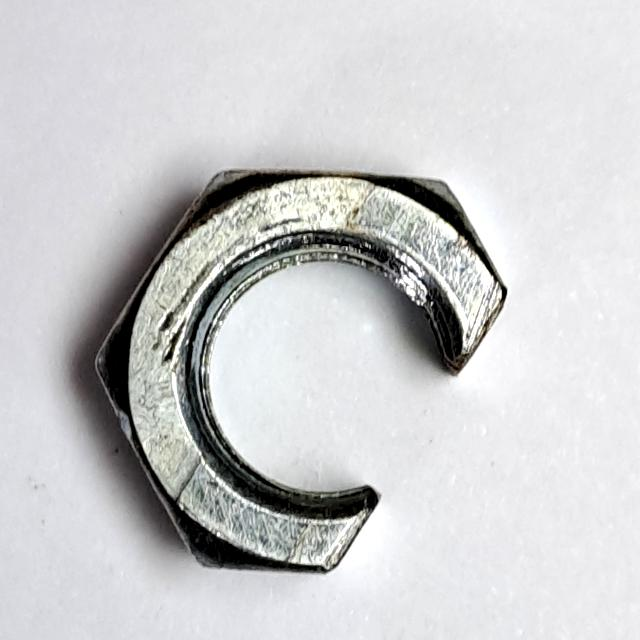Fracture: (78, 150, 519, 583)
